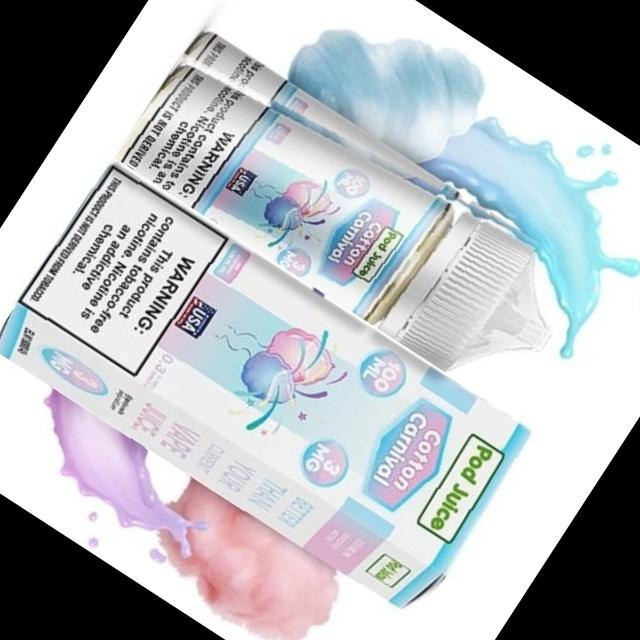Hazard: (0, 155, 539, 624), (113, 17, 595, 411)
